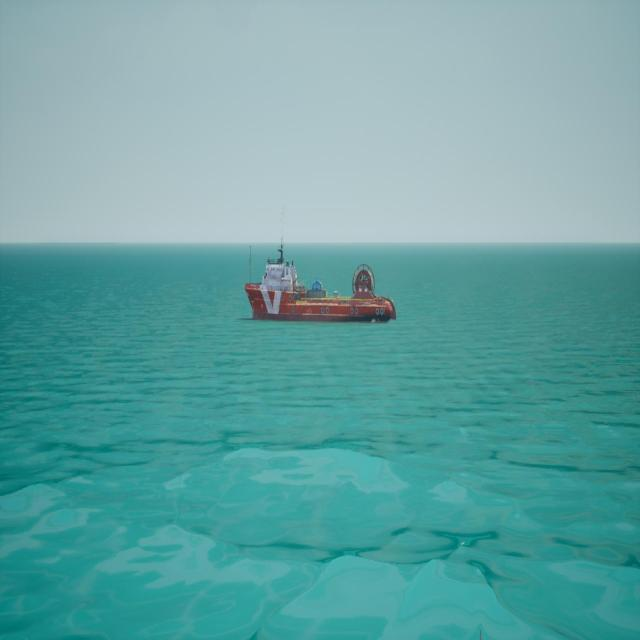tug boat: (245, 230, 396, 327)
